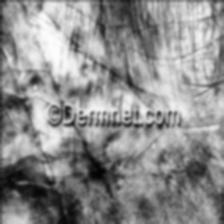Non-Cancerous Skin Condition: (28, 78, 40, 92)
